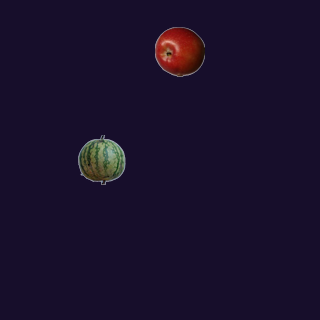Apple Braeburn: (154, 26, 204, 76)
Watermelon: (76, 134, 126, 184)
